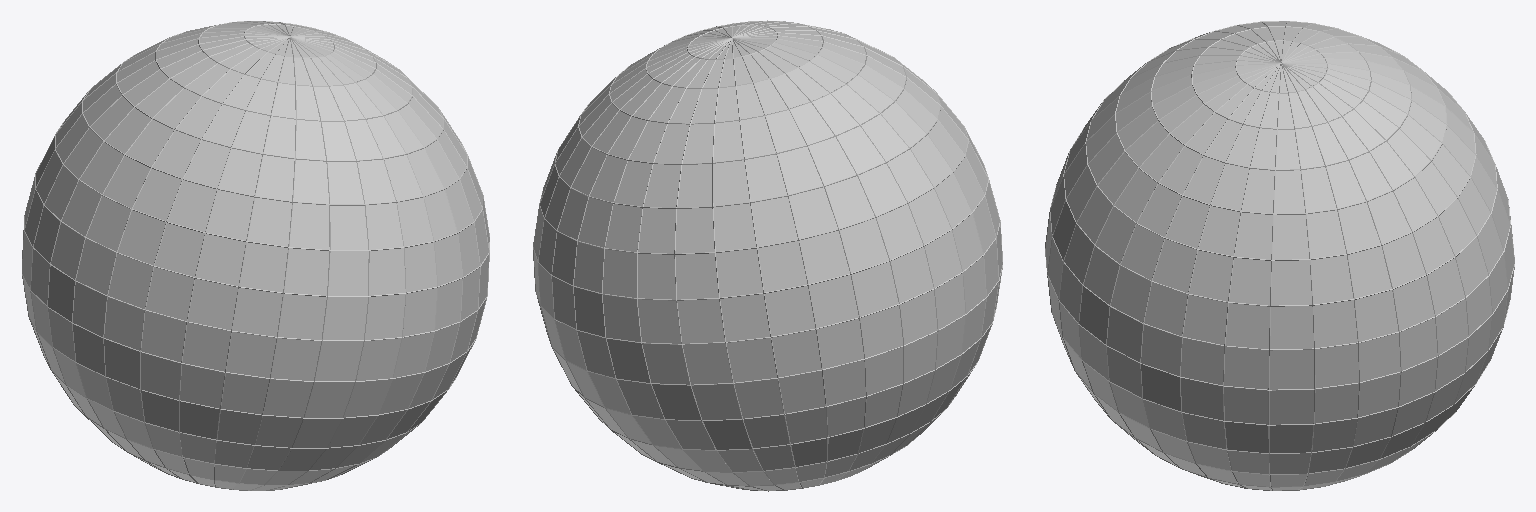
The model's file is earthrunnerglobe.obj.
The picture shows the model from 3 angles: view 1: azimuth 30°, elevation 25°; view 2: azimuth 150°, elevation 25°; view 3: azimuth 270°, elevation 25°; orthographic projection.
Parts seen in each view (by area): view 1: Sphere; view 2: Sphere; view 3: Sphere.
Boxes of the visible parts, x1=… form: Sphere: x1=22, y1=21, x2=489, y2=490; Sphere: x1=533, y1=20, x2=1002, y2=491; Sphere: x1=1045, y1=21, x2=1514, y2=490.
Bounding box in the file's own units: 6.05 × 6.05 × 6.05.